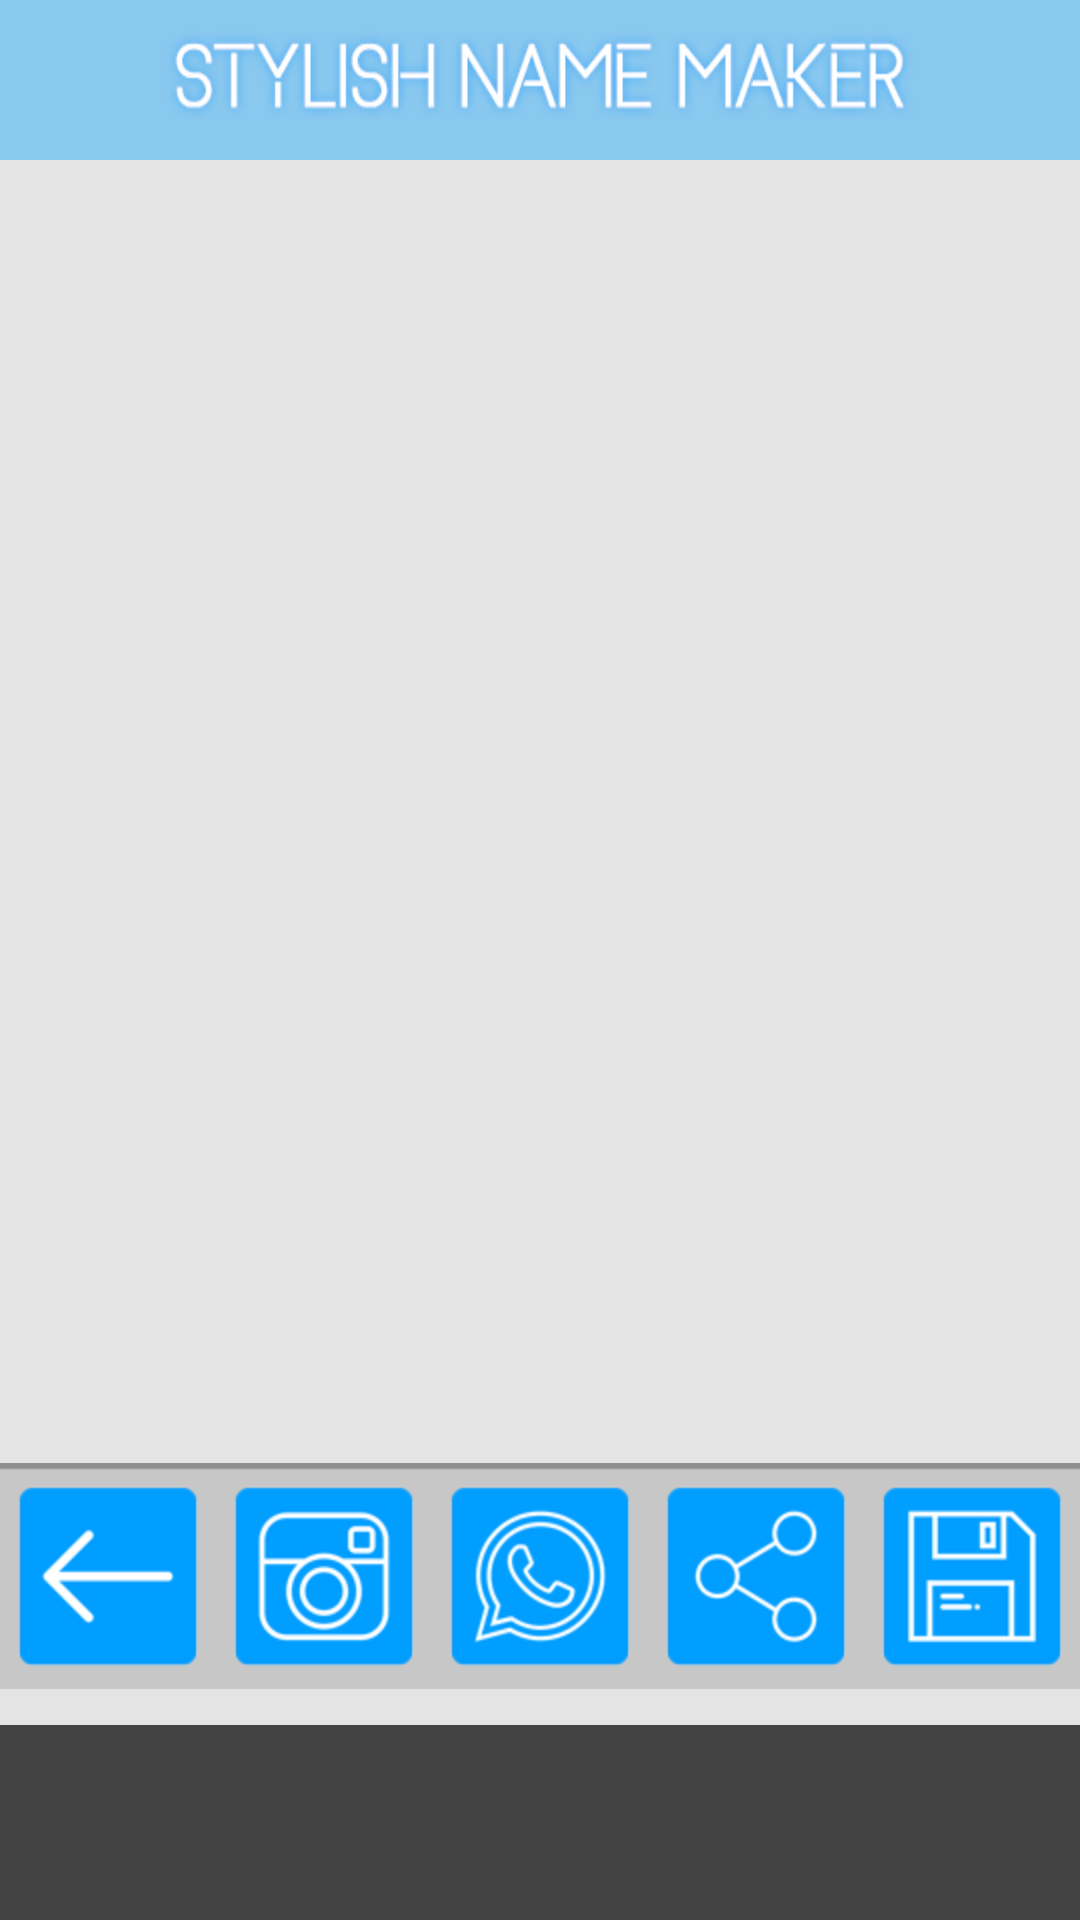

Where icons sit on this 1080x1920 app screen, as (x1, y1, x2, y2):
backbtn: (19, 1487, 197, 1666)
savebtn: (883, 1487, 1061, 1666)
sharebtn: (667, 1487, 845, 1666)
